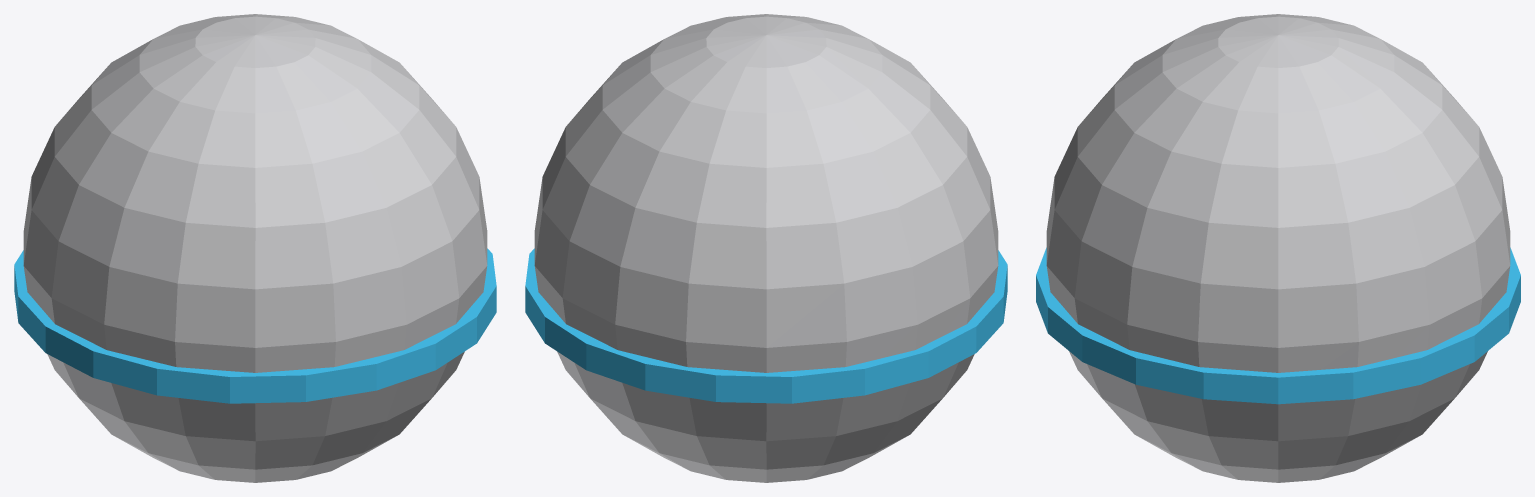
The model's file is vge_gravjumper_orb.obj.
3 views of the same model, side by side, from view 1: azimuth 30°, elevation 25°; view 2: azimuth 150°, elevation 25°; view 3: azimuth 270°, elevation 25° (orthographic).
Parts seen in each view (by area): view 1: vge_gravjumper_orb_0, vge_gravjumper_orb_1; view 2: vge_gravjumper_orb_0, vge_gravjumper_orb_1; view 3: vge_gravjumper_orb_0, vge_gravjumper_orb_1.
Part boxes in pixels (box(x1,y1,x2,y2)): vge_gravjumper_orb_0: box(23, 14, 487, 482); vge_gravjumper_orb_1: box(14, 248, 496, 403); vge_gravjumper_orb_0: box(534, 14, 998, 482); vge_gravjumper_orb_1: box(525, 248, 1007, 403); vge_gravjumper_orb_0: box(1046, 14, 1510, 482); vge_gravjumper_orb_1: box(1036, 247, 1520, 404).
Bounding box in the file's own units: 0.824 × 0.8 × 0.824.
